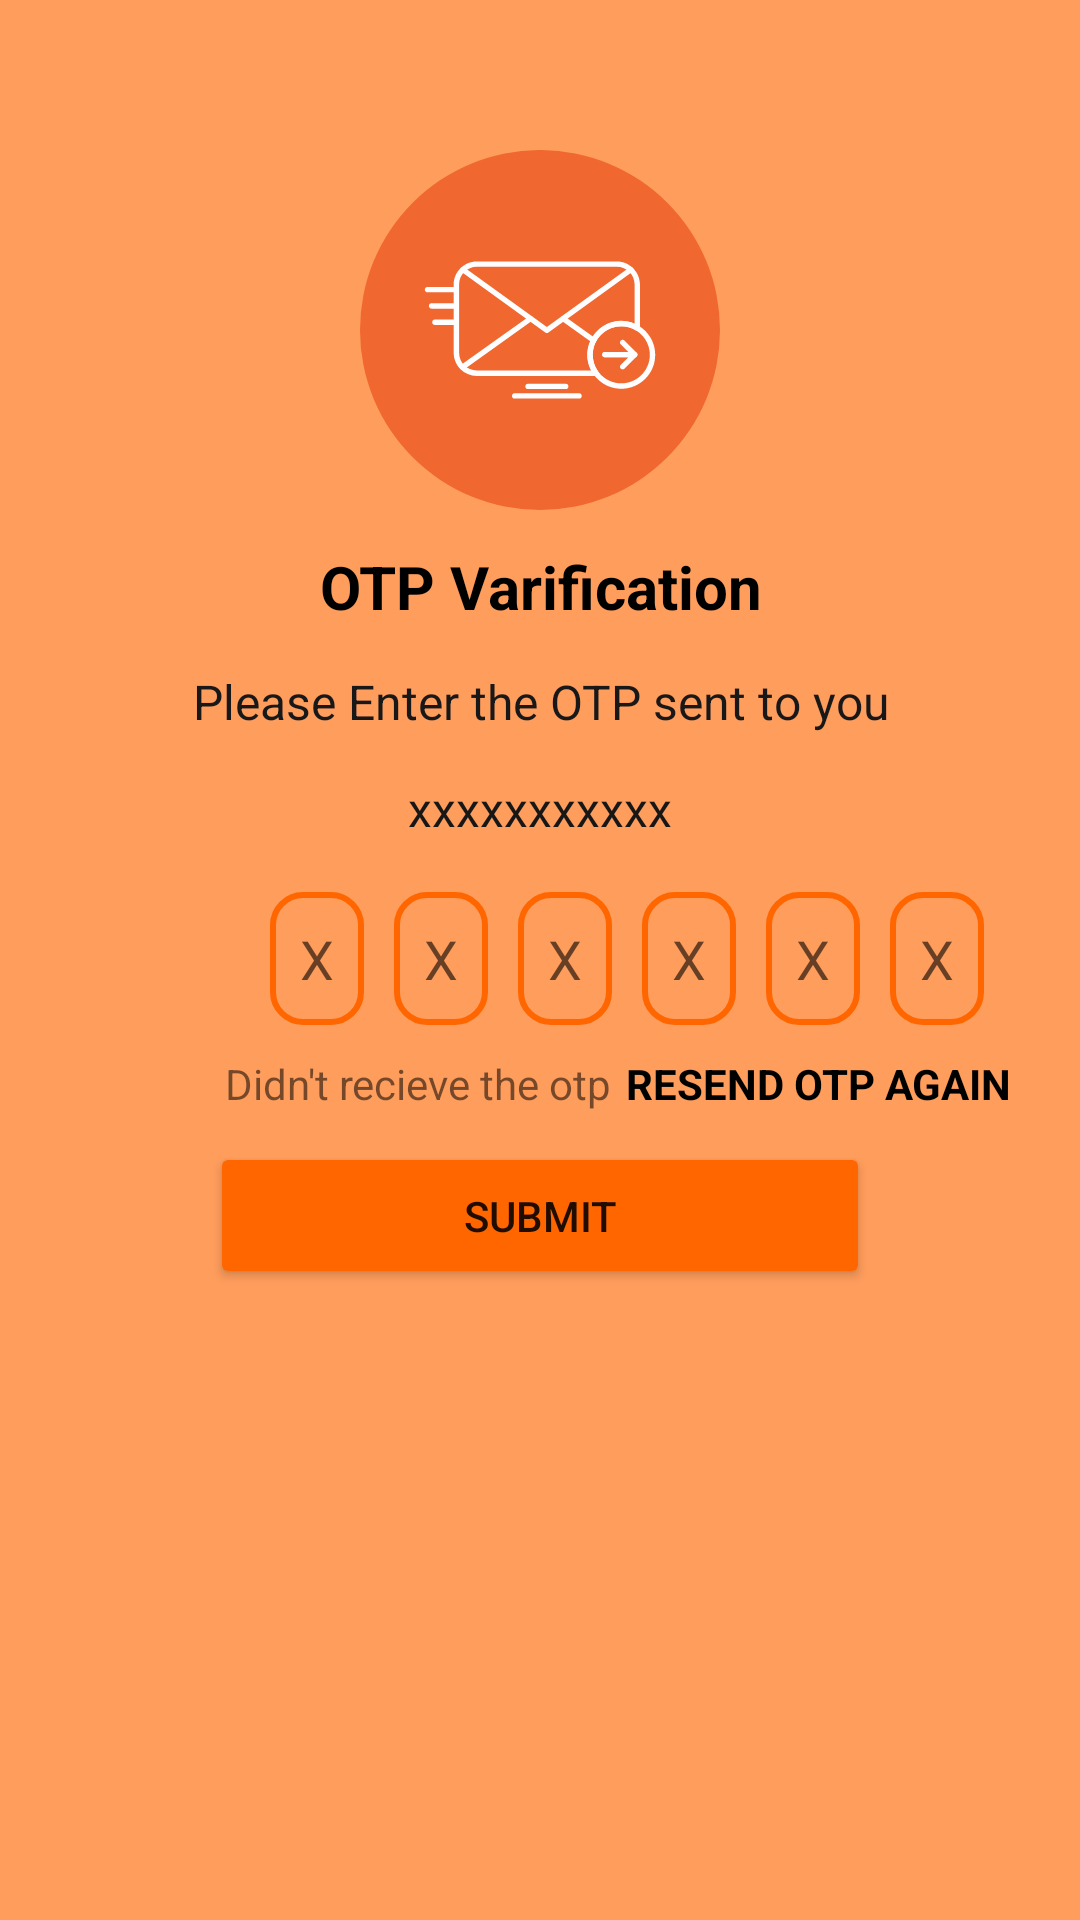

Icons on this 1080*1920 Android screen, each with the point to tap as [x,y]:
sendotp: [540,330]
